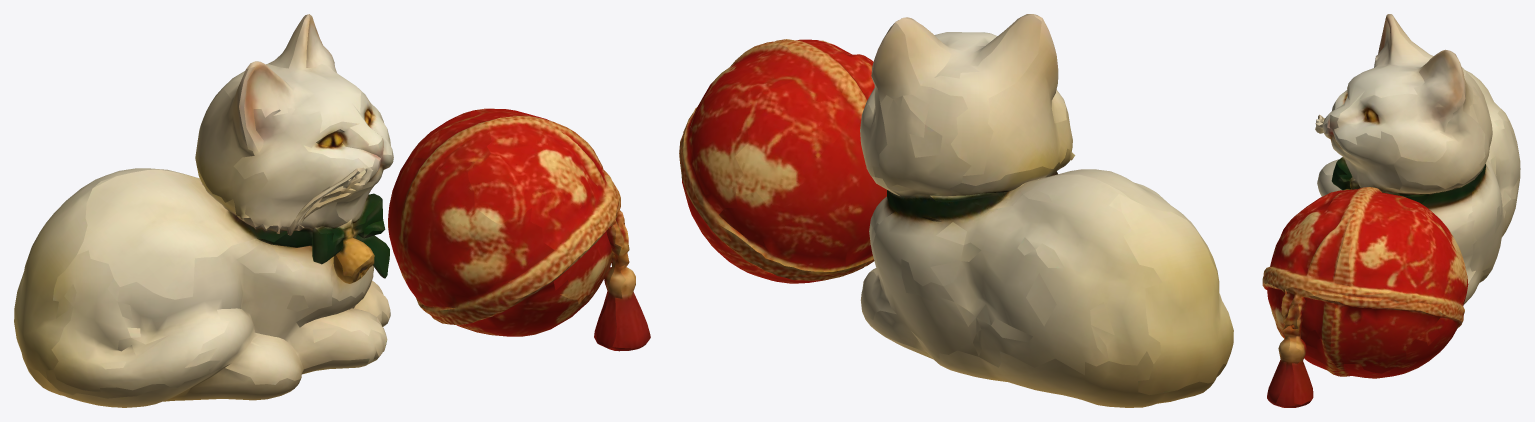
File: cat-ball.glb
3 views of the same model, side by side, from view 1: azimuth 30°, elevation 25°; view 2: azimuth 150°, elevation 25°; view 3: azimuth 270°, elevation 25° (orthographic). The views are drawn at different scales.
Parts seen in each view (by area): view 1: geometry_0; view 2: geometry_0; view 3: geometry_0.
Part boxes in pixels (x1,y1,x2,y2): geometry_0: (14, 14, 650, 407); geometry_0: (679, 14, 1233, 407); geometry_0: (1262, 14, 1520, 407).
Bounding box in the file's own units: 0.12 × 0.067 × 0.0598.
1 material, 1 textured.
